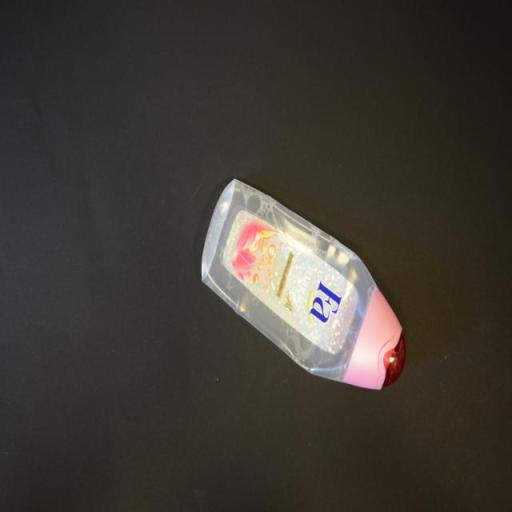plastic: (201, 178, 408, 392)
